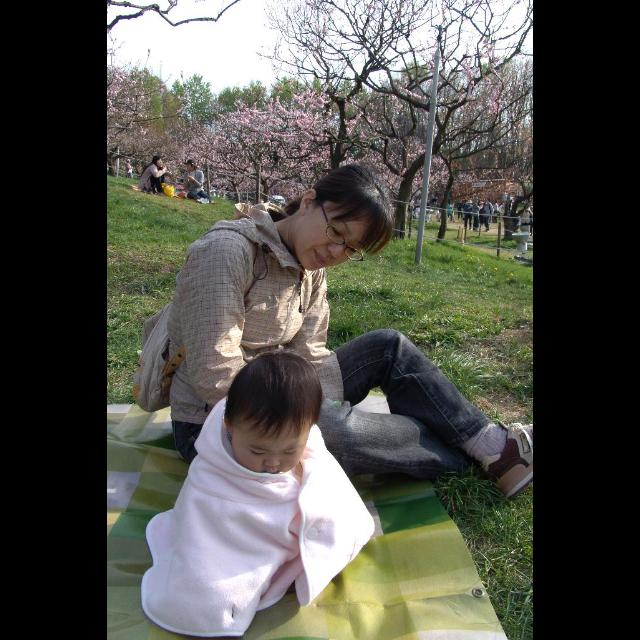Flower: (164, 96, 452, 204), (108, 37, 156, 131), (297, 98, 307, 106)
